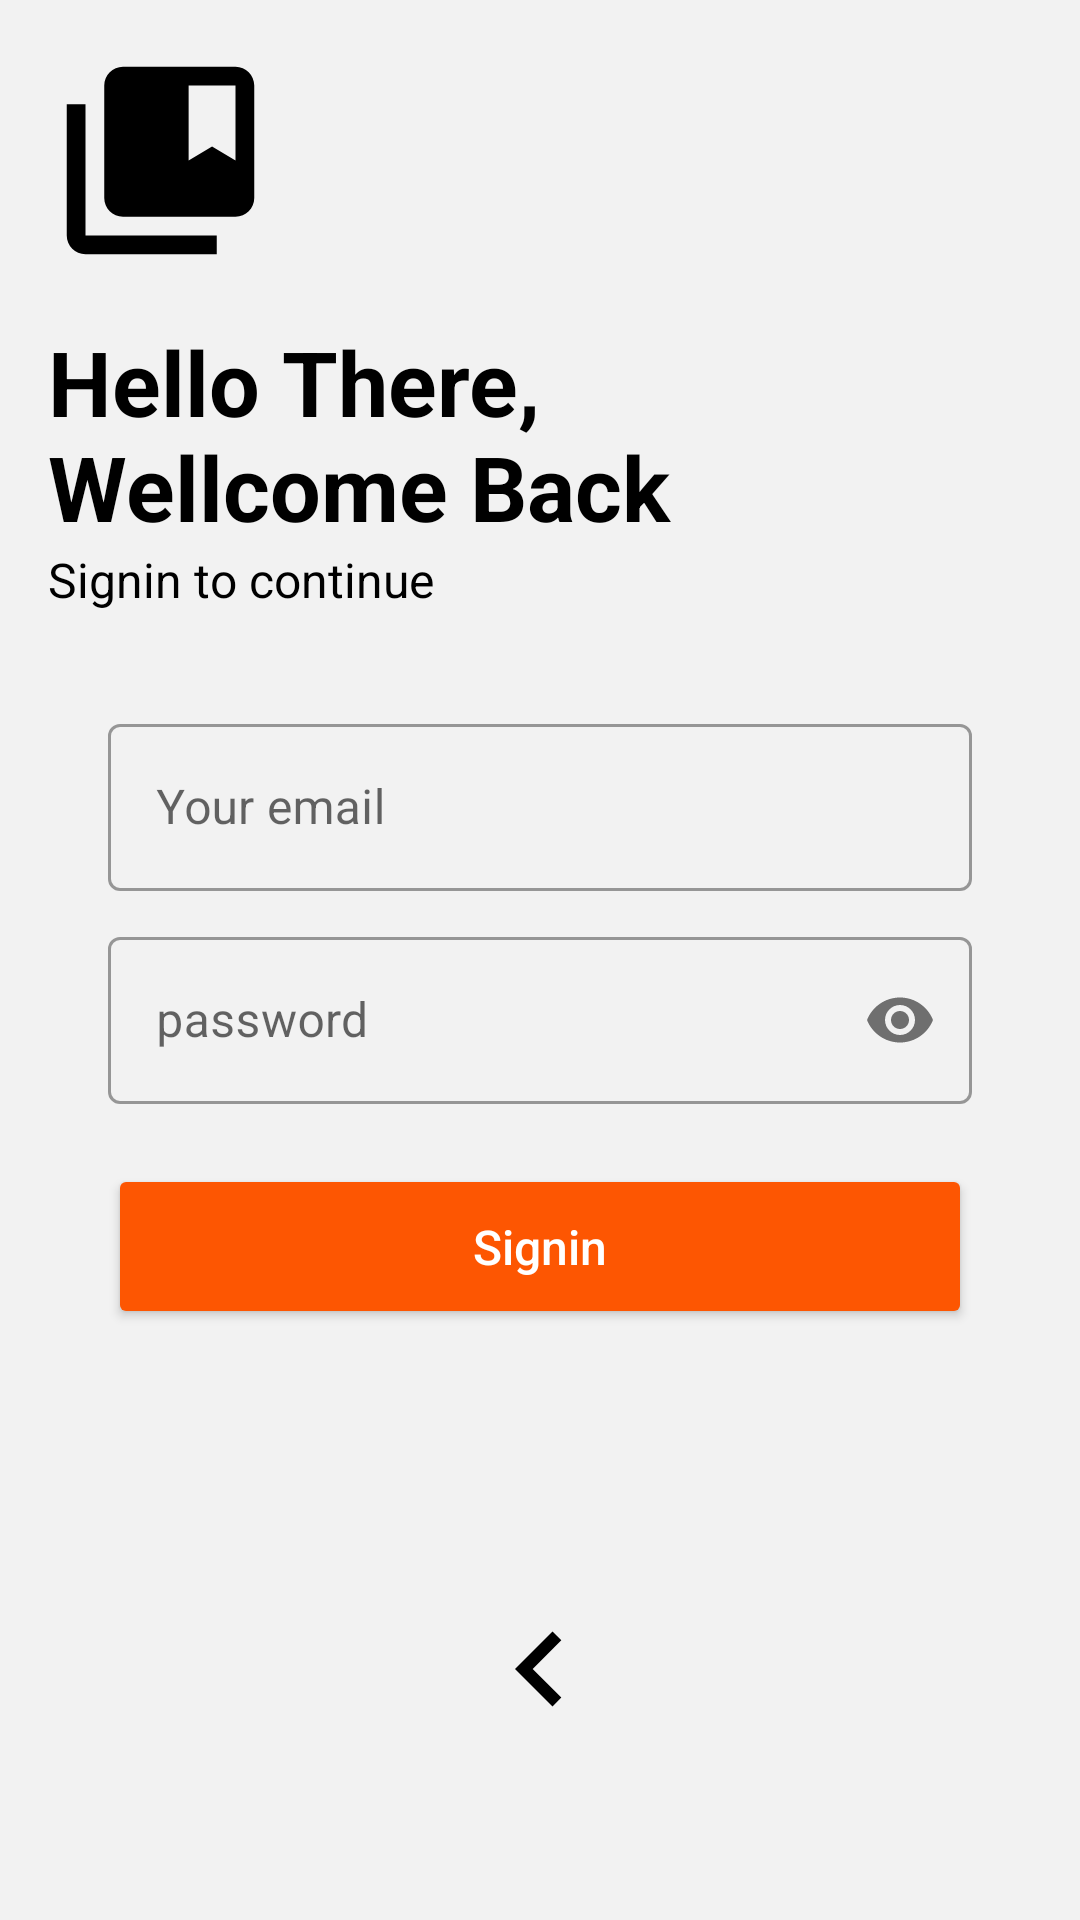

Locate icon controls on the screen. Image size 1080×1920, boxes as BBox(x1, y1, x2, y2).
collections bookmark: BBox(66, 66, 255, 255)
left arrow: BBox(515, 1631, 561, 1707)
